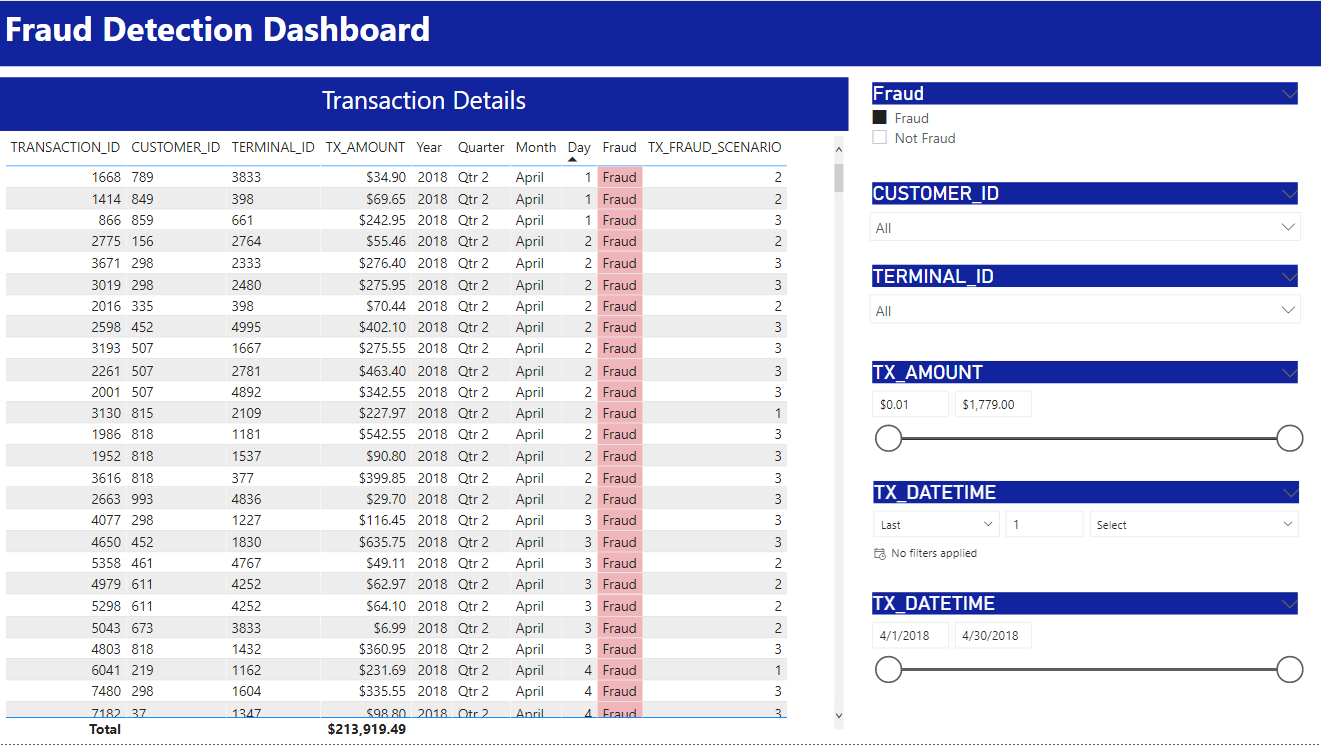

Layout of this report page (visuals, bound fields, positions):
{"tool":"powerbi","page":{"name":"Transaction Details","canvas":[1280,720],"ordinal":0},"visuals":[{"type":"textbox","box":[0,0,1280,63.2],"z":0},{"type":"tableEx","fields":{"Values":["cctransactions.TRANSACTION_ID","cctransactions.CUSTOMER_ID","cctransactions.TERMINAL_ID","Sum(cctransactions.TX_AMOUNT)","cctransactions.TX_DATETIME.Variation.Date Hierarchy.Year","cctransactions.TX_DATETIME.Variation.Date Hierarchy.Quarter","cctransactions.TX_DATETIME.Variation.Date Hierarchy.Month","cctransactions.TX_DATETIME.Variation.Date Hierarchy.Day","cctransactions.Fraud","cctransactions.TX_FRAUD_SCENARIO"]},"box":[0,126.4,822.7,593.3],"z":1000},{"type":"textbox","box":[0,74.2,822.7,52.2],"z":2000},{"type":"slicer","title":"Fraud","fields":{"Values":["cctransactions.Fraud"]},"box":[832.3,74.2,438.1,96.1],"z":3000},{"type":"slicer","fields":{"Values":["cctransactions.CUSTOMER_ID"]},"box":[832.3,170.3,438.1,79.7],"z":4000},{"type":"slicer","fields":{"Values":["cctransactions.TERMINAL_ID"]},"box":[832.3,250,438.1,79.7],"z":5000},{"type":"slicer","fields":{"Values":["cctransactions.TX_AMOUNT"]},"box":[832.3,343.3,438.1,159.3],"z":6000},{"type":"slicer","fields":{"Values":["cctransactions.TX_DATETIME"]},"box":[833.6,460.1,438.1,107.1],"z":7000},{"type":"slicer","fields":{"Values":["cctransactions.TX_DATETIME"]},"box":[832.3,567.2,438.1,152.4],"z":8000}]}

Visuals, with their boxes in screenshot pixels (x1, y1, x2, y2), scaled from the page's 1280x720 canvas onto the 1321x745 screenshot:
textbox: [left=0, top=0, right=1320, bottom=65]
tableEx - cctransactions.TRANSACTION_ID x cctransactions.CUSTOMER_ID: [left=0, top=131, right=849, bottom=744]
textbox: [left=0, top=77, right=849, bottom=131]
"Fraud" slicer: [left=859, top=77, right=1311, bottom=176]
slicer - cctransactions.CUSTOMER_ID: [left=859, top=176, right=1311, bottom=259]
slicer - cctransactions.TERMINAL_ID: [left=859, top=259, right=1311, bottom=341]
slicer - cctransactions.TX_AMOUNT: [left=859, top=355, right=1311, bottom=520]
slicer - cctransactions.TX_DATETIME: [left=860, top=476, right=1312, bottom=587]
slicer - cctransactions.TX_DATETIME: [left=859, top=587, right=1311, bottom=744]
